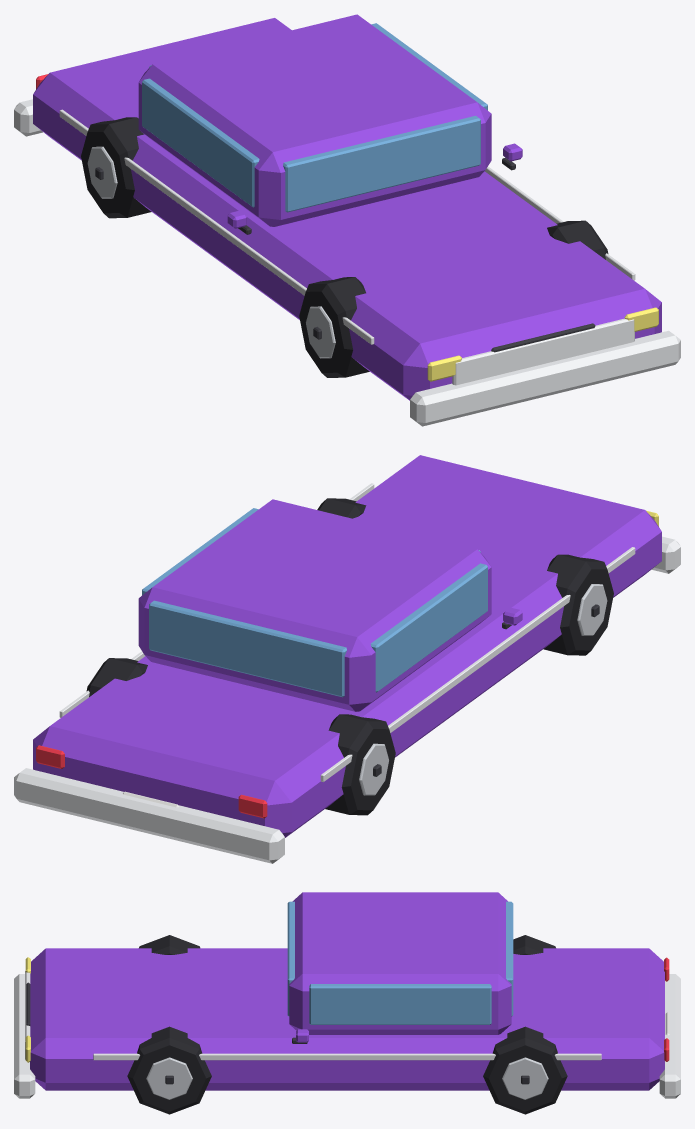
Rendered from Lowrider.fbx.
3 renders of one model, top to bottom at view 1: azimuth 30°, elevation 25°; view 2: azimuth 150°, elevation 25°; view 3: azimuth 270°, elevation 25°, orthographic. The views are drawn at different scales.
Visible parts, largest first — view 1: Lowrider, Lowrider_WheelFR, Lowrider_WheelBR, Lowrider_WheelFL; view 2: Lowrider, Lowrider_WheelFR, Lowrider_WheelBR, Lowrider_WheelBL, Lowrider_WheelFL; view 3: Lowrider, Lowrider_WheelBL, Lowrider_WheelFL, Lowrider_WheelFR, Lowrider_WheelBR.
Boxes of the visible parts, x1,y1,x2,y2 form: Lowrider: (14, 14, 680, 426); Lowrider_WheelFR: (299, 277, 369, 377); Lowrider_WheelBR: (81, 117, 151, 218); Lowrider_WheelFL: (547, 220, 608, 259); Lowrider: (14, 455, 680, 863); Lowrider_WheelFR: (543, 554, 613, 655); Lowrider_WheelBR: (325, 714, 395, 815); Lowrider_WheelBL: (86, 658, 147, 696); Lowrider_WheelFL: (317, 498, 366, 518); Lowrider: (14, 892, 680, 1098); Lowrider_WheelBL: (483, 1026, 567, 1114); Lowrider_WheelFL: (127, 1026, 211, 1114); Lowrider_WheelFR: (139, 935, 200, 954); Lowrider_WheelBR: (513, 935, 555, 954).
Size of the model in its own units: 5.15 by 2.71 by 12.6.
1 material, 1 textured.
